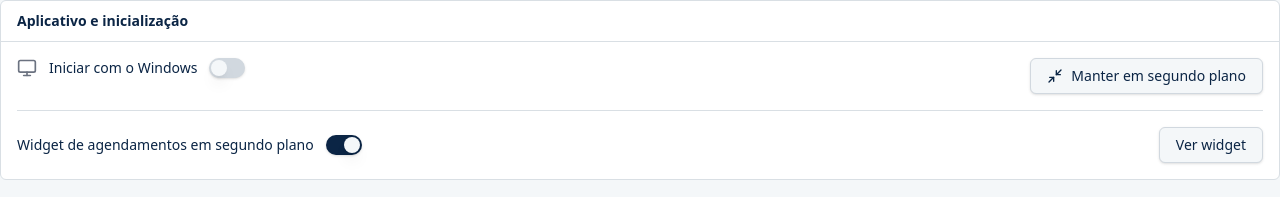
Scenario: preferências do aplicativo nativo › consulta a inicialização e altera somente após a ação do operador
Click the switch named "Iniciar com o Windows" next to "Iniciar com o Windows".
click(228, 68)  # box [210, 58, 246, 78]
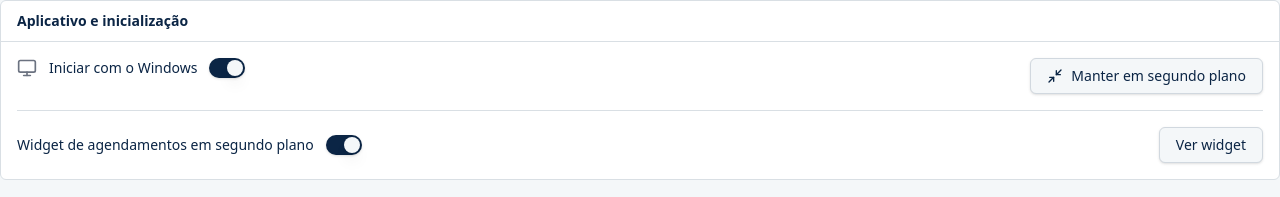
Expected: the switch named "Iniciar com o Windows" next to "Iniciar com o Windows" is checked, [210, 58, 246, 78]
